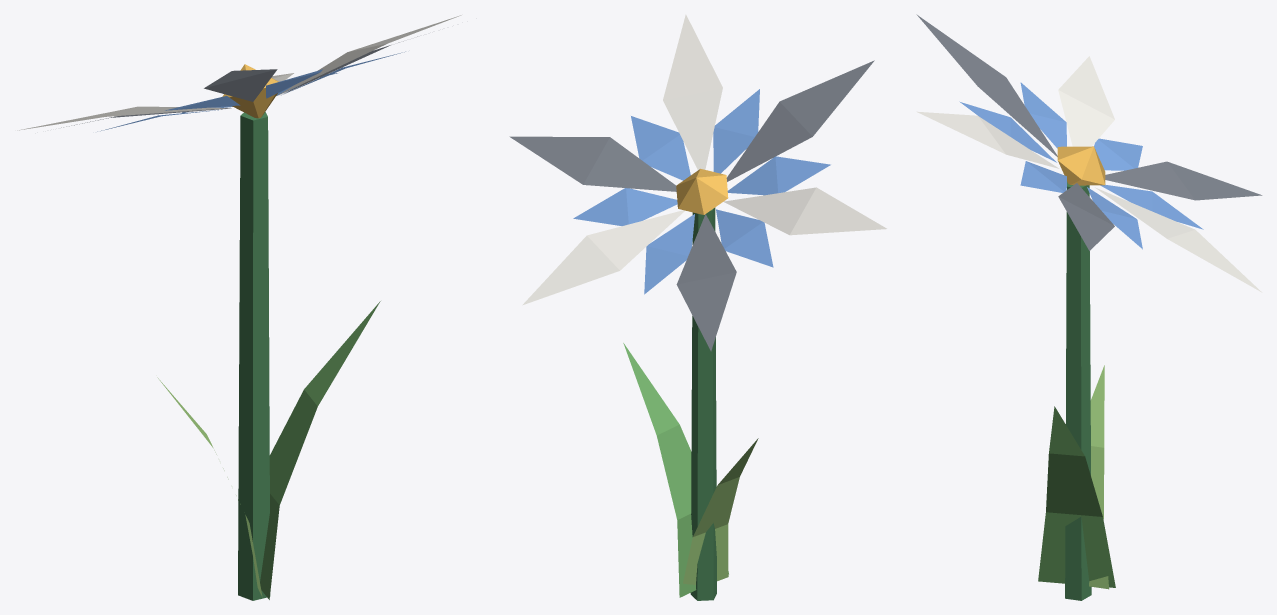
The model's file is deco_snow_flower.obj.
The picture shows the model from 3 angles, left to right: view 1: azimuth 30°, elevation 25°; view 2: azimuth 150°, elevation 25°; view 3: azimuth 270°, elevation 25°; orthographic projection. The views are drawn at different scales.
Visible parts, largest first — view 1: deco_snow_flower; view 2: deco_snow_flower; view 3: deco_snow_flower.
Boxes of the visible parts, box(x1,y1,x2,y2) form: deco_snow_flower: box(17, 15, 461, 600); deco_snow_flower: box(509, 14, 886, 600); deco_snow_flower: box(916, 14, 1262, 600).
Size of the model in its own units: 0.0407 by 0.0517 by 0.0306.
1 material, 1 textured.
